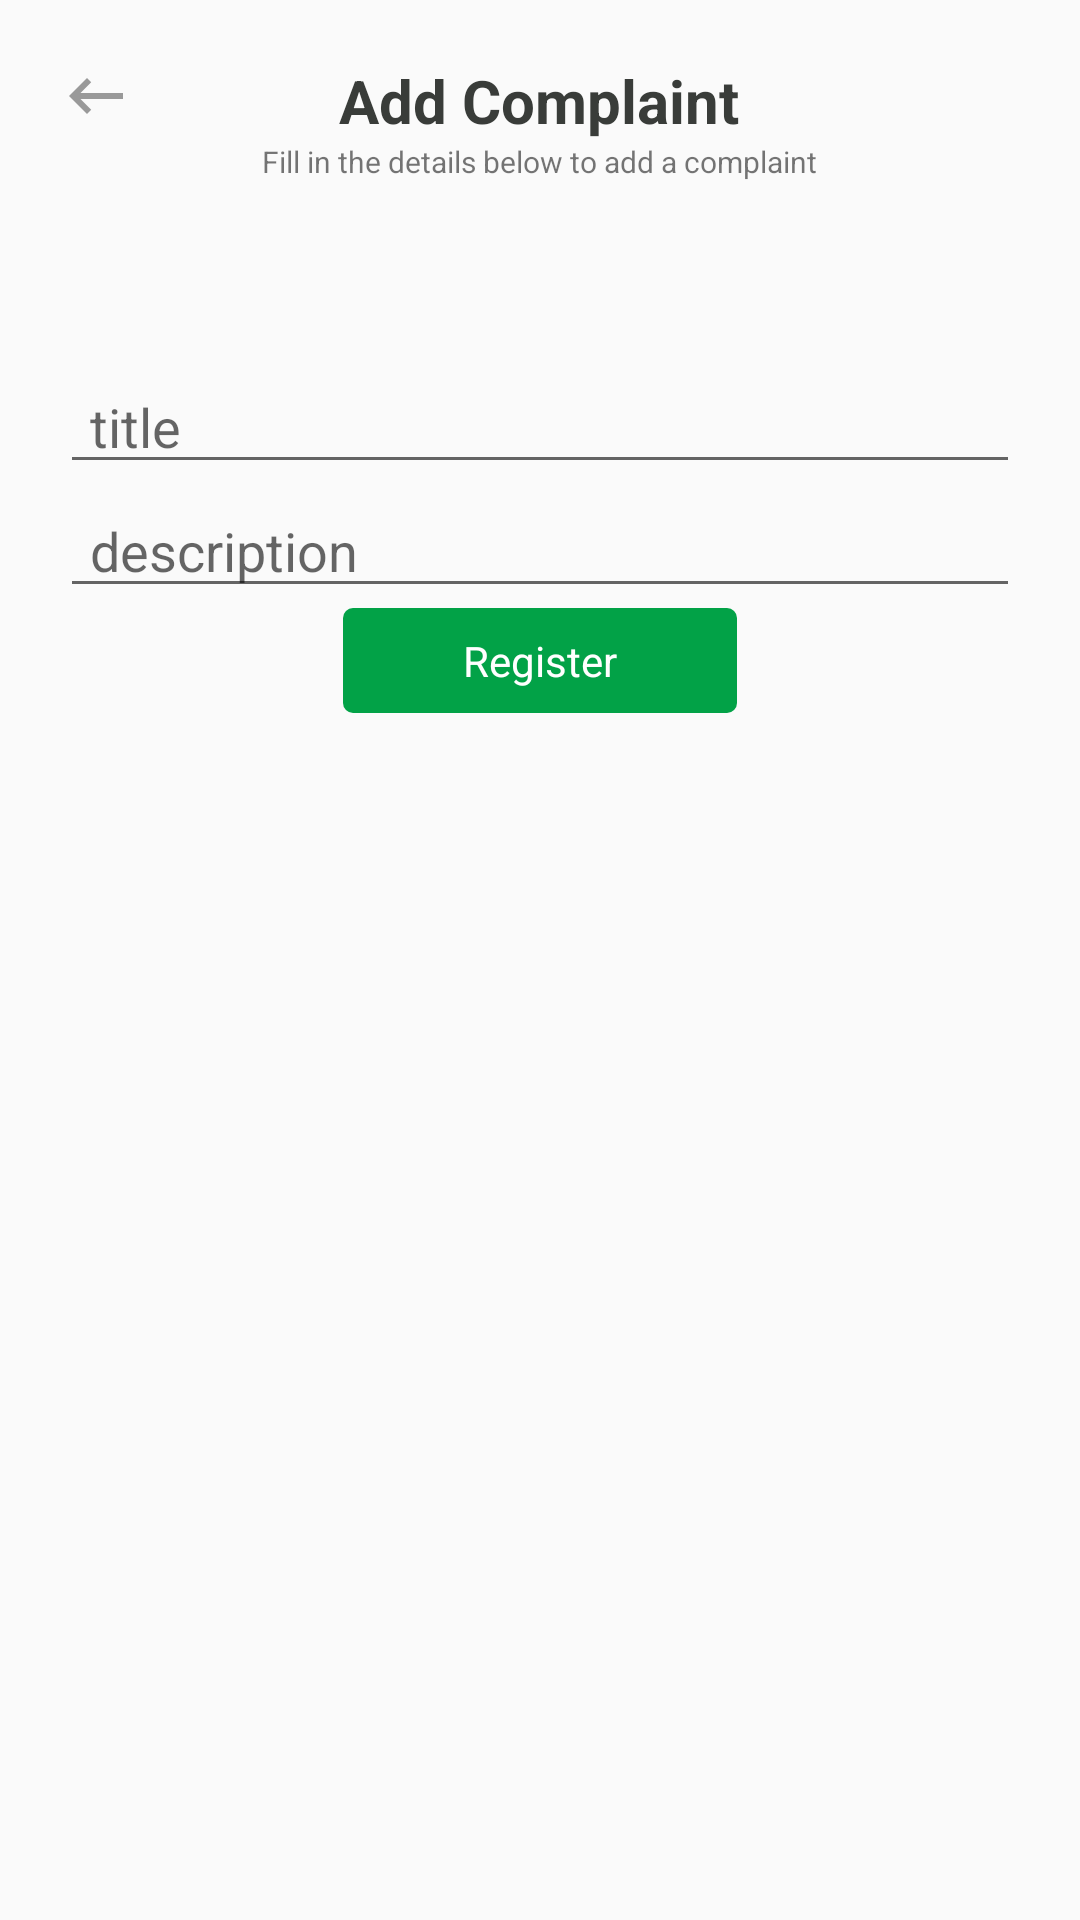

Icons on this 1080px×1920px Android screen, each with its box as Rect(x1, y1, x2, y2):
keyboard backspace: Rect(69, 78, 123, 114)
